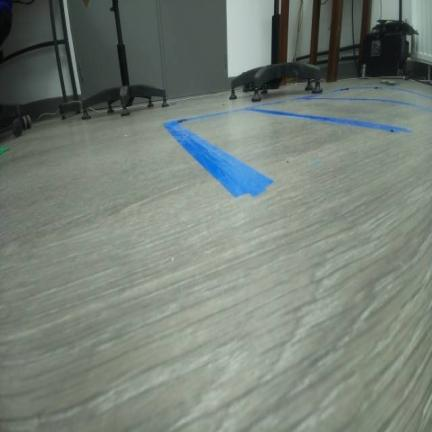place: (161, 104, 411, 201), (240, 93, 431, 134), (301, 85, 431, 112)
